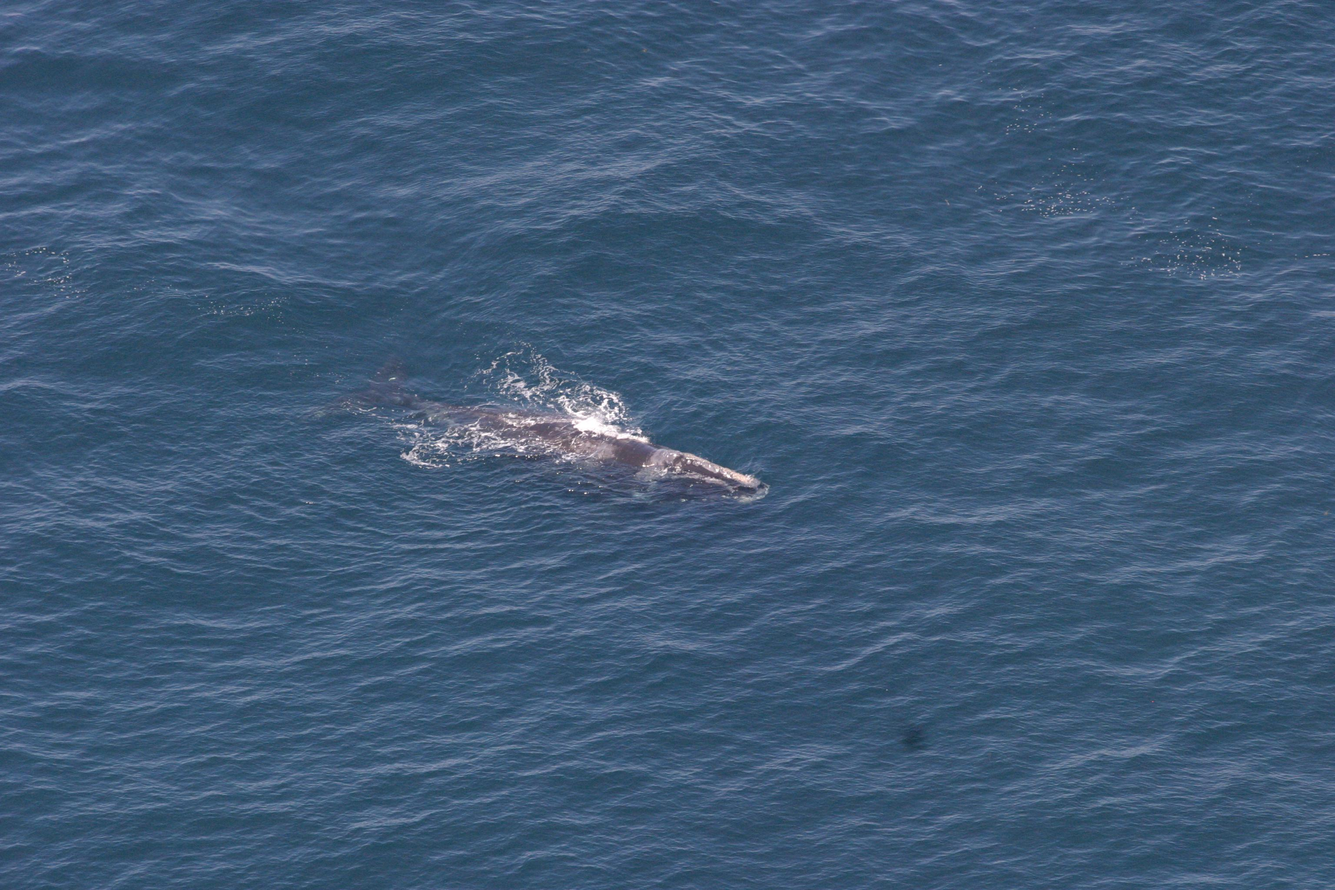whale: (286, 340, 777, 522)
